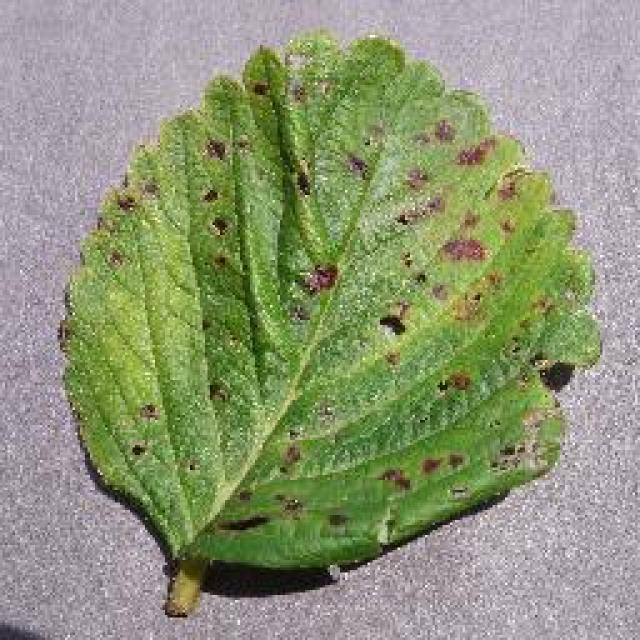Strawberry leaf scorch: (172, 127, 455, 478)
